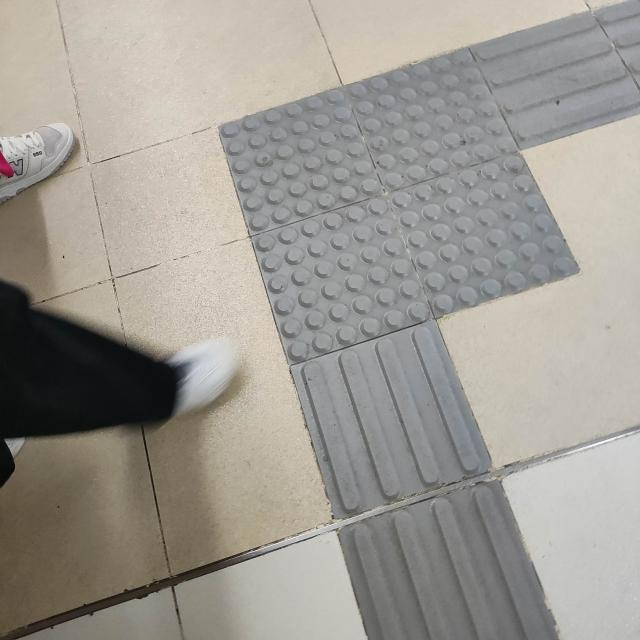kanan: (164, 0, 640, 436)
